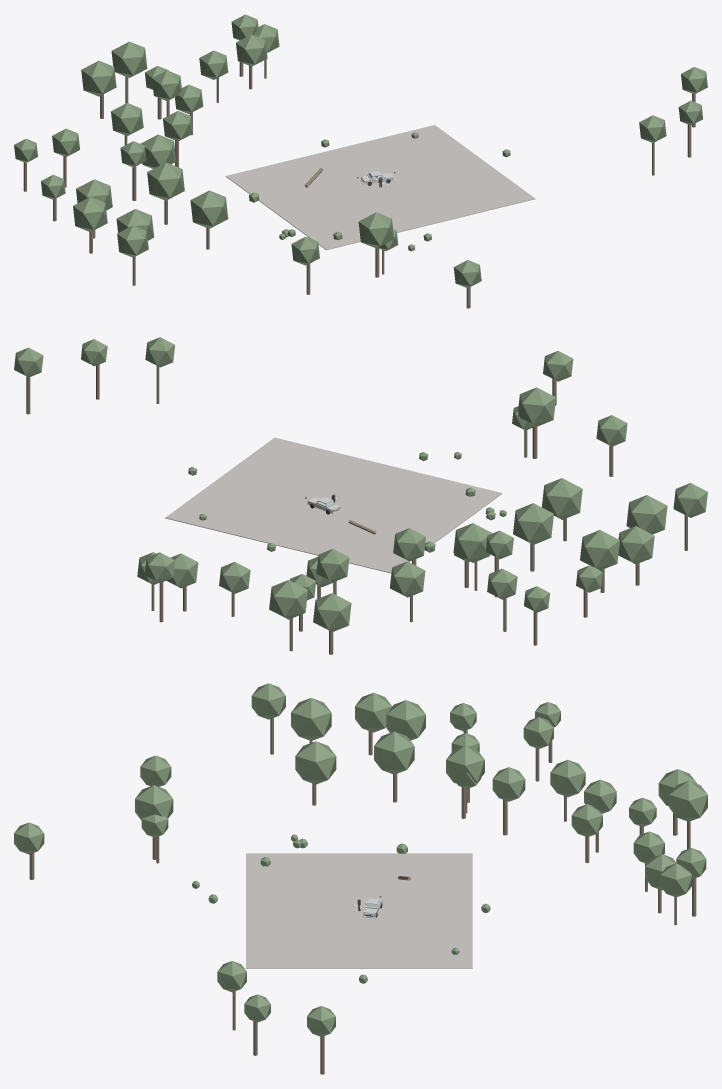
The picture shows the model from 3 angles, top to bottom: view 1: azimuth 30°, elevation 25°; view 2: azimuth 150°, elevation 25°; view 3: azimuth 270°, elevation 25°; orthographic projection. The views are drawn at different scales.
Visible parts, largest first — view 1: Cube, Icosphere.018, Icosphere.024, Icosphere.007, Icosphere.008, Icosphere.025, Icosphere.006, Icosphere.016, Icosphere.022, Icosphere.003, Icosphere.010, Icosphere.021 (+14 smaller); view 2: Cube, Icosphere.024, Icosphere.018, Icosphere.023, Icosphere.026, Icosphere.007, Icosphere.025, Icosphere.008, Icosphere.016, Icosphere.006, Icosphere.022, Icosphere.003 (+14 smaller); view 3: Cube, Icosphere.018, Icosphere.024, Icosphere.026, Icosphere.007, Icosphere.023, Icosphere.016, Icosphere.006, Icosphere.022, Icosphere.008, Icosphere.003, Icosphere.021 (+12 smaller).
Part boxes in pixels (bbox=[...]): Cube: bbox=[225, 125, 535, 250]; Icosphere.018: bbox=[190, 190, 228, 228]; Icosphere.024: bbox=[147, 162, 184, 200]; Icosphere.007: bbox=[111, 41, 147, 77]; Icosphere.008: bbox=[358, 212, 393, 248]; Icosphere.025: bbox=[81, 60, 116, 96]; Icosphere.006: bbox=[73, 197, 107, 231]; Icosphere.016: bbox=[140, 134, 176, 168]; Icosphere.022: bbox=[111, 103, 143, 135]; Icosphere.003: bbox=[117, 225, 148, 257]; Icosphere.010: bbox=[236, 34, 267, 66]; Icosphere.021: bbox=[163, 111, 192, 140]; Cube: bbox=[165, 437, 502, 573]; Icosphere.024: bbox=[513, 503, 553, 544]; Icosphere.018: bbox=[542, 478, 582, 519]; Icosphere.023: bbox=[580, 530, 619, 570]; Icosphere.026: bbox=[626, 495, 667, 534]; Icosphere.007: bbox=[269, 580, 307, 619]; Icosphere.025: bbox=[313, 593, 351, 632]; Icosphere.008: bbox=[518, 387, 555, 426]; Icosphere.016: bbox=[453, 523, 492, 562]; Icosphere.006: bbox=[618, 526, 654, 564]; Icosphere.022: bbox=[390, 561, 425, 597]; Icosphere.003: bbox=[673, 483, 707, 517]; Cube: bbox=[246, 853, 472, 968]; Icosphere.018: bbox=[295, 741, 336, 784]; Icosphere.024: bbox=[374, 731, 414, 773]; Icosphere.026: bbox=[291, 698, 331, 740]; Icosphere.007: bbox=[669, 780, 707, 821]; Icosphere.023: bbox=[386, 700, 425, 740]; Icosphere.016: bbox=[446, 745, 484, 783]; Icosphere.006: bbox=[355, 692, 392, 732]; Icosphere.022: bbox=[550, 760, 585, 797]; Icosphere.008: bbox=[135, 785, 173, 820]; Icosphere.003: bbox=[251, 683, 285, 719]; Icosphere.021: bbox=[492, 767, 525, 801].
Size of what is drawn, in the model's own units: 105 by 11.25 by 91.86.
